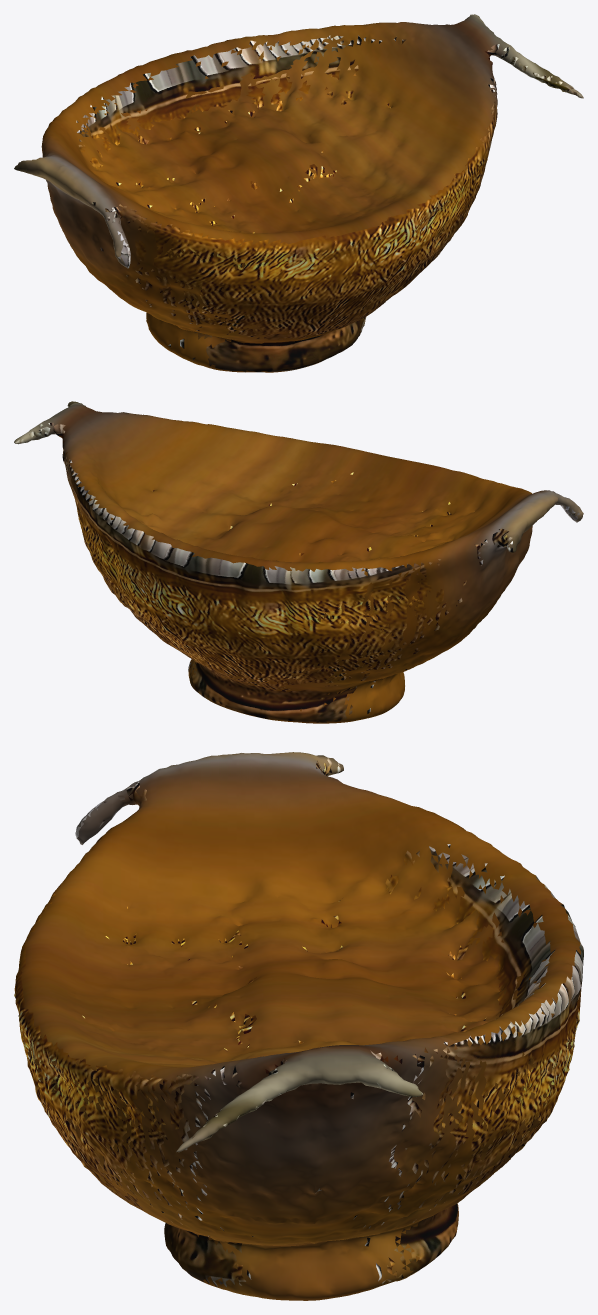
File: kfl-2318.glb
3 views of the same model, one above another, from view 1: azimuth 30°, elevation 25°; view 2: azimuth 150°, elevation 25°; view 3: azimuth 270°, elevation 25° (orthographic). The views are drawn at different scales.
Parts seen in each view (by area): view 1: kfl-2318; view 2: kfl-2318; view 3: kfl-2318.
Boxes of the visible parts, x1=… form: kfl-2318: x1=14, y1=14, x2=583, y2=372; kfl-2318: x1=14, y1=401, x2=583, y2=723; kfl-2318: x1=14, y1=752, x2=583, y2=1300.
Bounding box in the file's own units: 0.9884 × 0.4529 × 0.6513.
4 materials, 4 textured.
